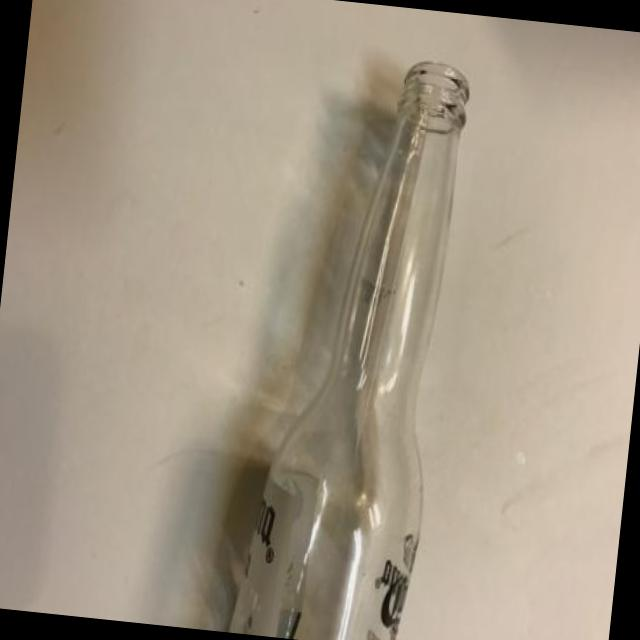chai_thuy_tinh: (229, 58, 469, 640)
